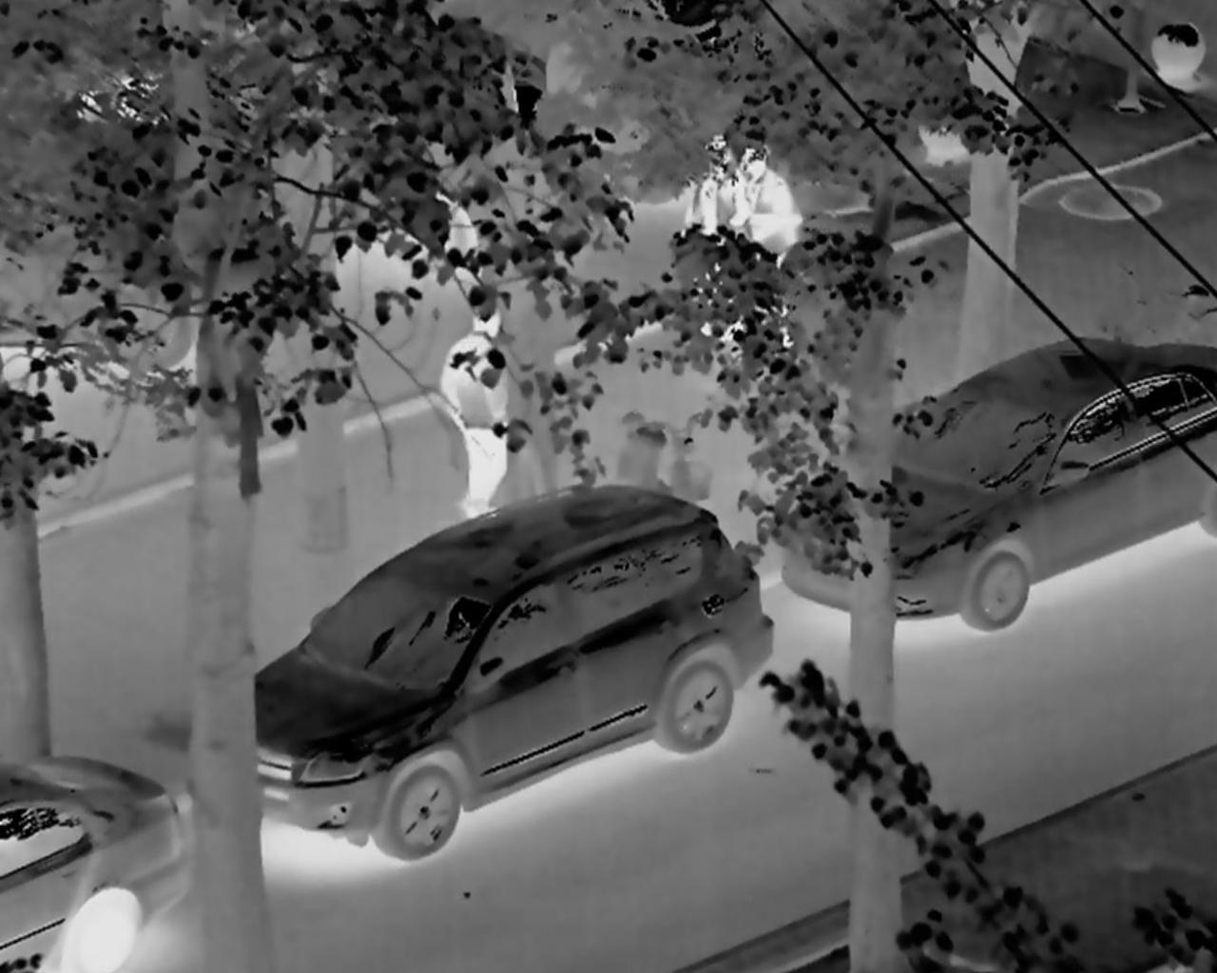person: (440, 278, 524, 541), (736, 132, 813, 354), (680, 111, 751, 351)
